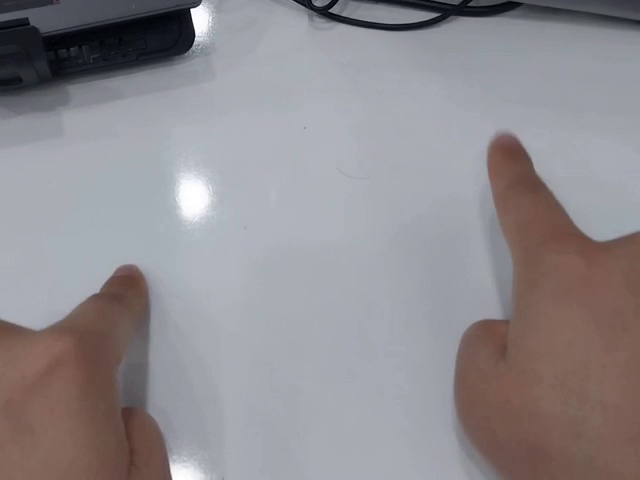fingers: (100, 263, 148, 320), (485, 129, 533, 175)
